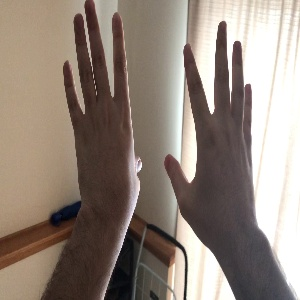hand: (164, 21, 259, 229), (63, 1, 142, 196)
